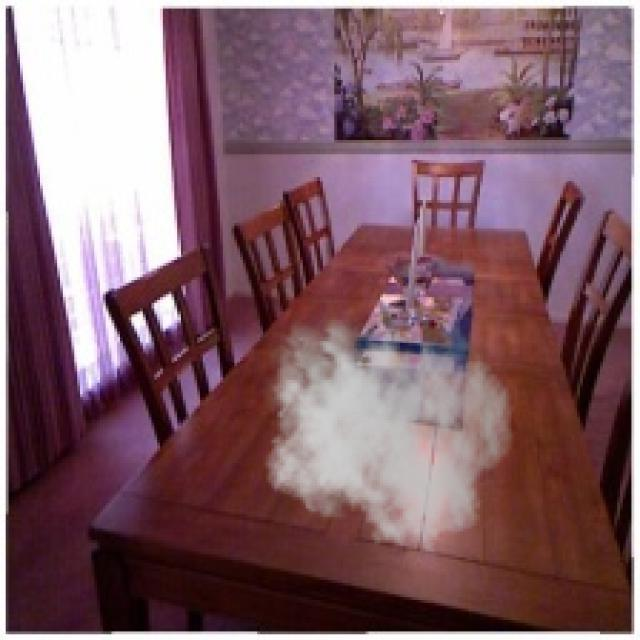Smoke: (257, 306, 514, 554)
